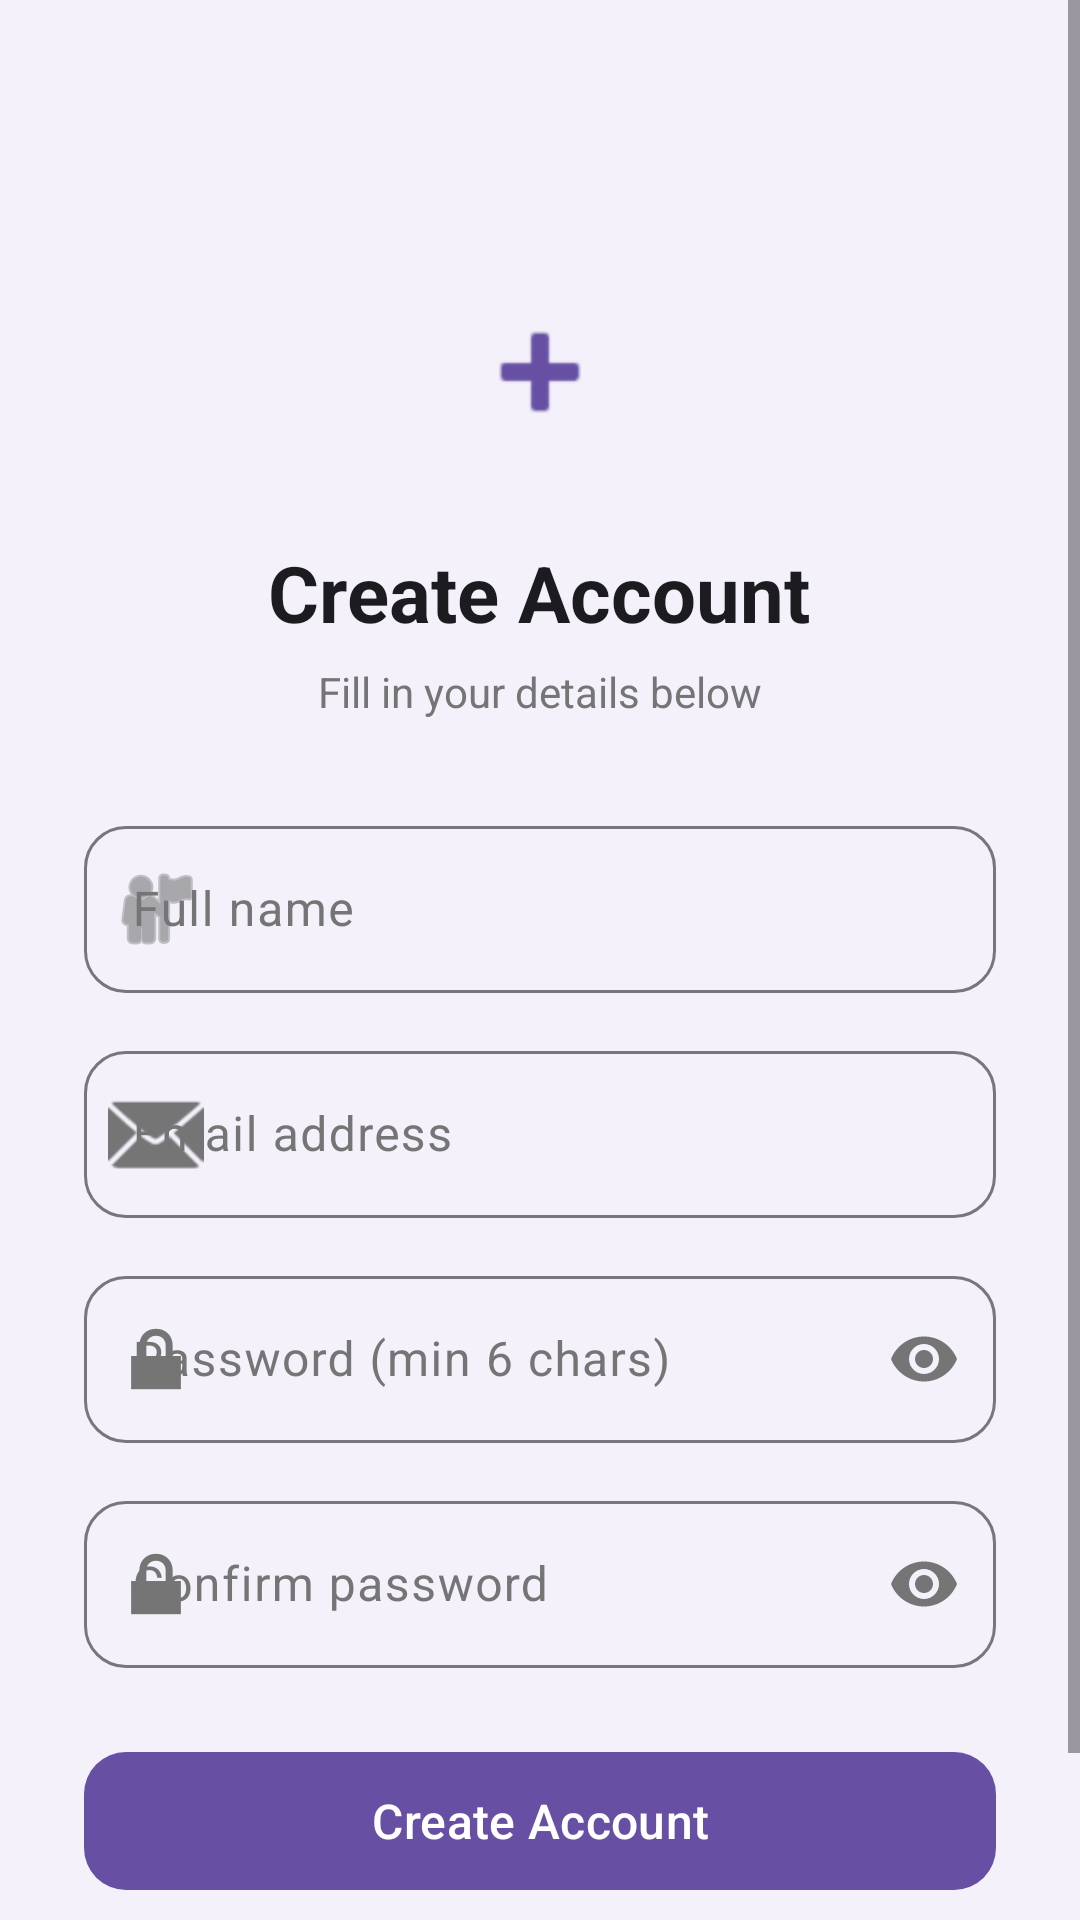

Icon bounding boxes for this 1080px x 1920px phone screenshot, format (x1, y1, x2, y2):
add: (499, 331, 581, 413)
